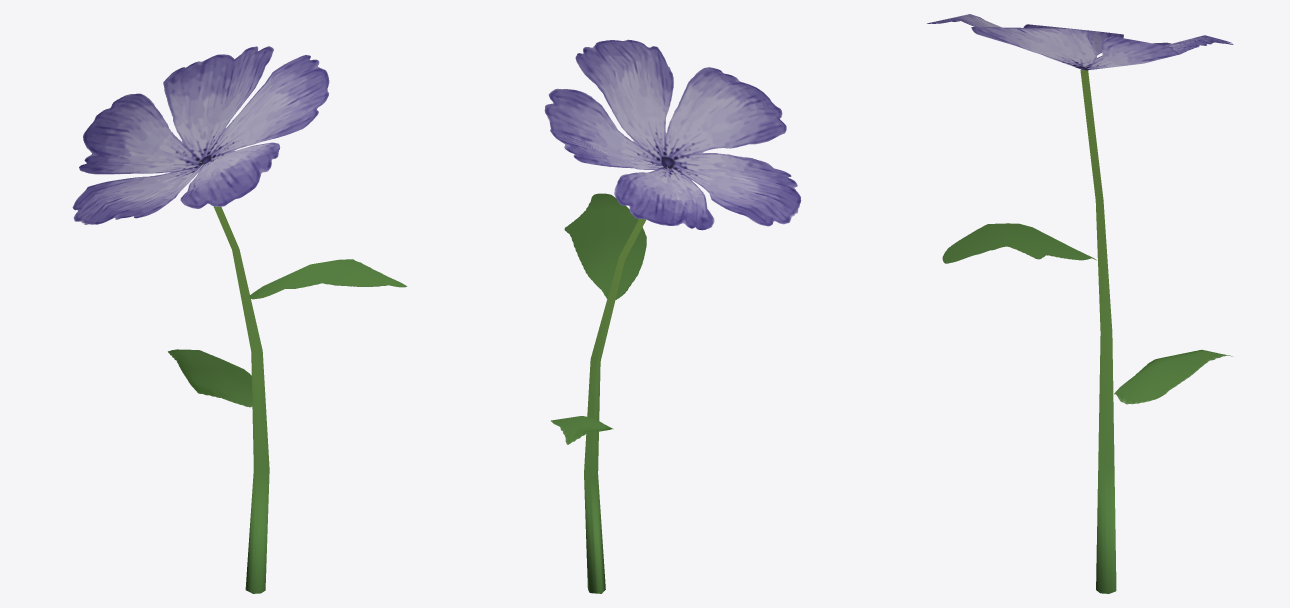
File: FlowerC.fbx
The picture shows the model from 3 angles, left to right: view 1: azimuth 30°, elevation 25°; view 2: azimuth 150°, elevation 25°; view 3: azimuth 270°, elevation 25°; orthographic projection. The views are drawn at different scales.
Parts seen in each view (by area): view 1: FlowerC_LOD0; view 2: FlowerC_LOD0; view 3: FlowerC_LOD0.
Part boxes in pixels (left/top/right/bottom): FlowerC_LOD0: left=72, top=46, right=406, bottom=593; FlowerC_LOD0: left=544, top=39, right=801, bottom=593; FlowerC_LOD0: left=927, top=14, right=1233, bottom=593.
Size of what is drawn, in the model's own units: 35.52 by 54.48 by 31.39.
